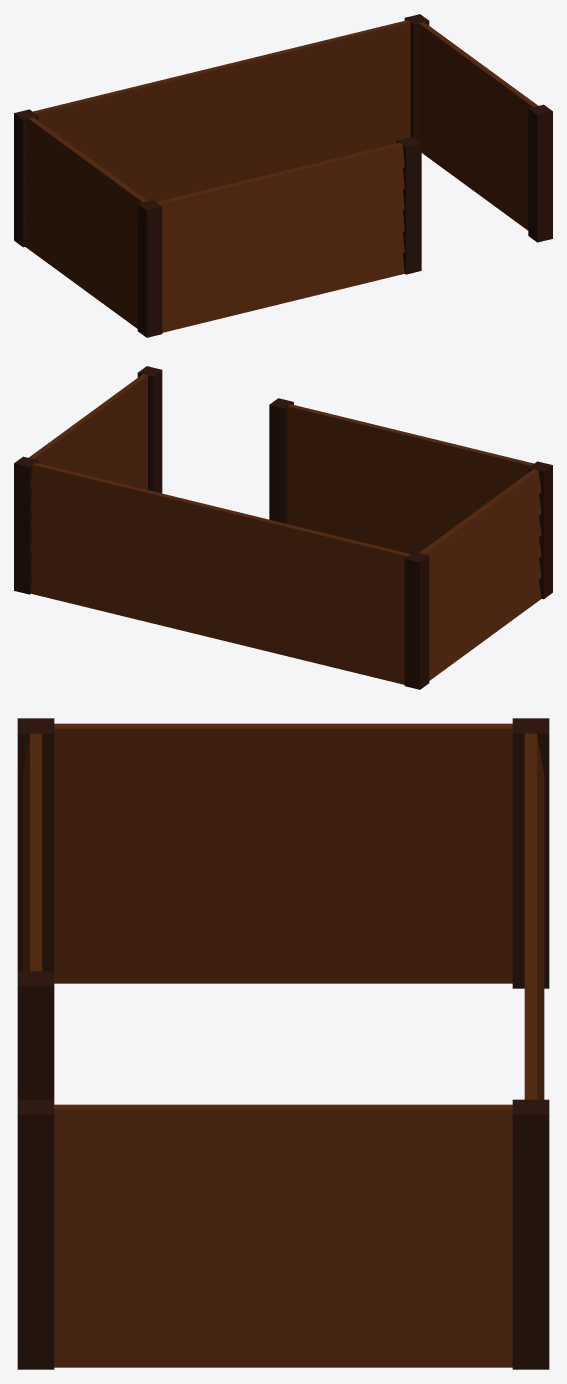
Rendered from Shed_01.FBX.
3 views of the same model, one above another, from view 1: azimuth 30°, elevation 25°; view 2: azimuth 150°, elevation 25°; view 3: azimuth 270°, elevation 25° (orthographic). The views are drawn at different scales.
Visible parts, largest first — view 1: Box001; view 2: Box001; view 3: Box001.
Boxes of the visible parts, x1,y1,x2,y2 form: Box001: (14,14,552,337); Box001: (14,366,552,689); Box001: (17,718,549,1369).
Size of the model in its own units: 95.21 by 28.56 by 53.95.
